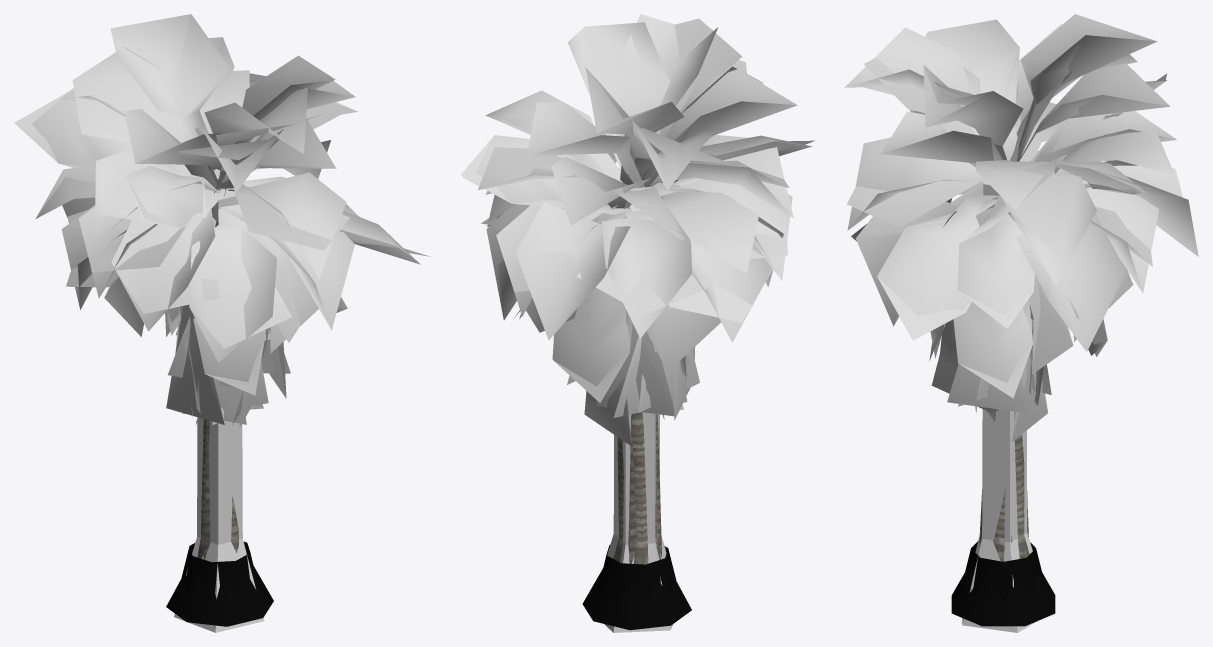
File: fanpalm_short.dae
3 views of the same model, side by side, from view 1: azimuth 30°, elevation 25°; view 2: azimuth 150°, elevation 25°; view 3: azimuth 270°, elevation 25° (orthographic). The views are drawn at different scales.
Visible parts, largest first — view 1: fanpalm_short_a400, fanpalm_short_a150, Colmesh_fanpalm_short-1; view 2: fanpalm_short_a400, fanpalm_short_a150, Colmesh_fanpalm_short-1; view 3: fanpalm_short_a400, fanpalm_short_a150, Colmesh_fanpalm_short-1.
Boxes of the visible parts, <box> form: fanpalm_short_a400: <box>32,14,420,626</box>; fanpalm_short_a150: <box>14,14,430,559</box>; Colmesh_fanpalm_short-1: <box>174,191,264,632</box>; fanpalm_short_a400: <box>463,14,812,630</box>; fanpalm_short_a150: <box>461,18,814,563</box>; Colmesh_fanpalm_short-1: <box>604,189,673,632</box>; fanpalm_short_a400: <box>844,14,1187,626</box>; fanpalm_short_a150: <box>847,35,1198,546</box>; Colmesh_fanpalm_short-1: <box>962,182,1037,632</box>.
Bounding box in the file's own units: 7.92 × 7.5 × 13.7.
